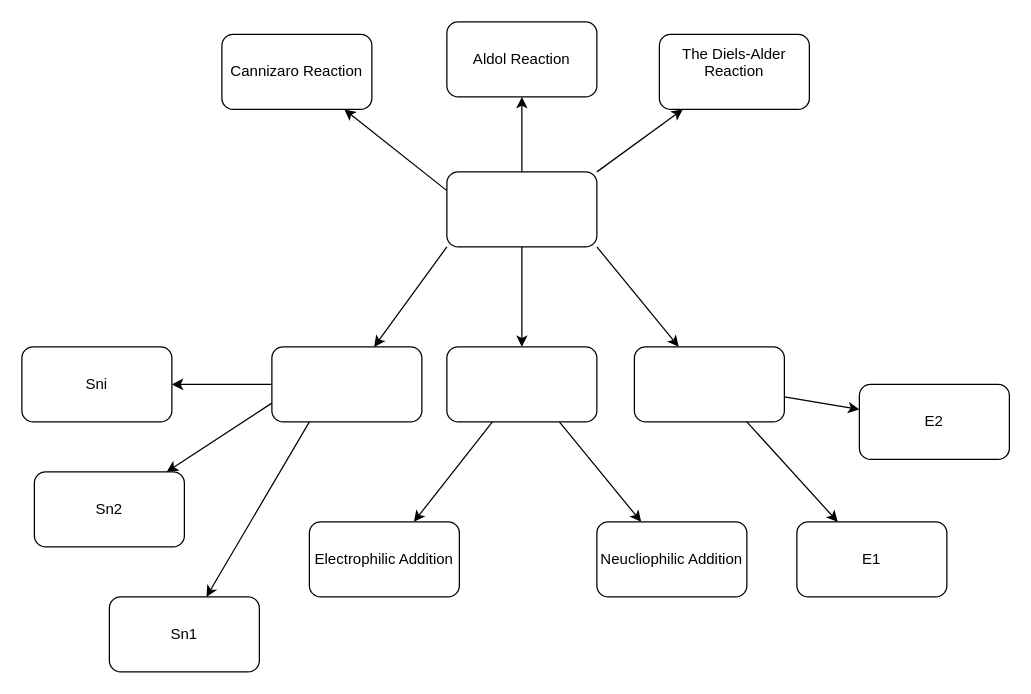
The diagram is 1031 pixels wide and 694 high, and some of its shapes have lost their labels. The shapes that lost their labels are listed below. From the top down, each one's box as (x1, y1, x2, y2) in pixels, then its label:
(446, 171, 597, 247): Organic reactions & Synthesis of Drug Molecule
(271, 346, 422, 422): Substitution Reaction
(446, 346, 597, 422): Addition Reactions
(633, 346, 784, 422): Elimination Reaction
